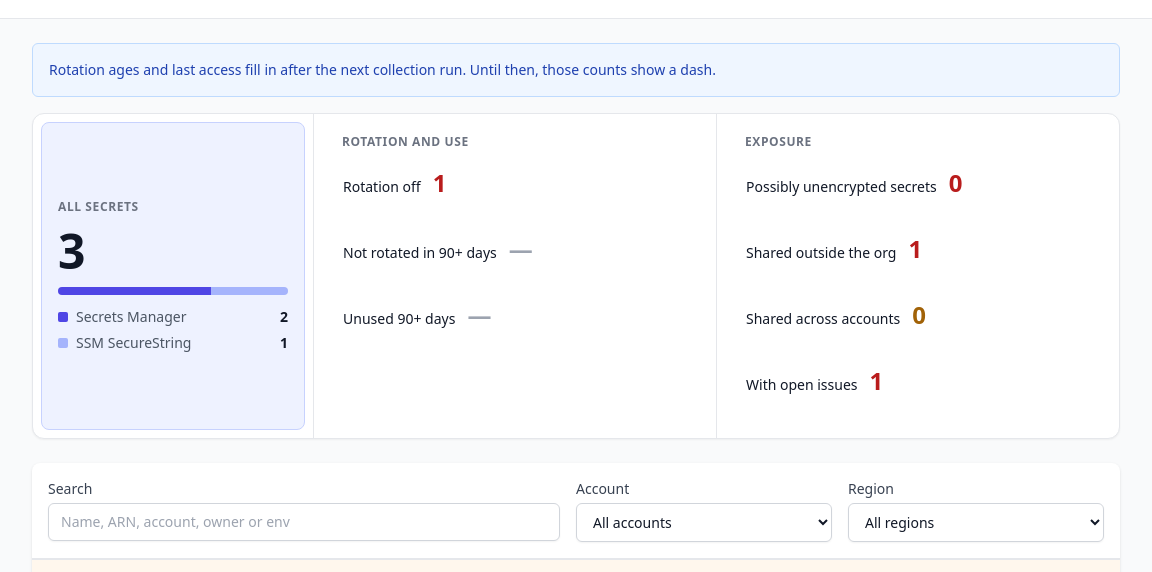
SecretsPage › summarises by type and filters from a risk row, clearing on a second click
Expected: the button "All secrets 3 Secrets Manager 2 SSM SecureString 1" is shown, [41,122,305,430]
Click the button "Rotation off 1".
click(382, 186)  # box [330,160,700,224]
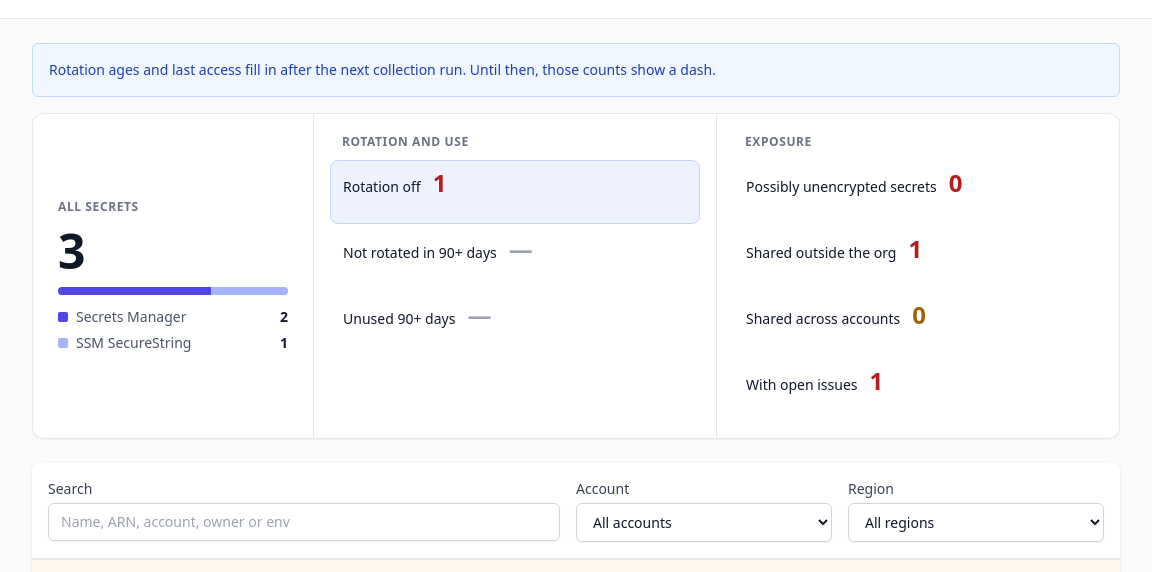
Click the button "Rotation off 1".
click(382, 186)  # box [330,160,700,224]
(page scrolled)
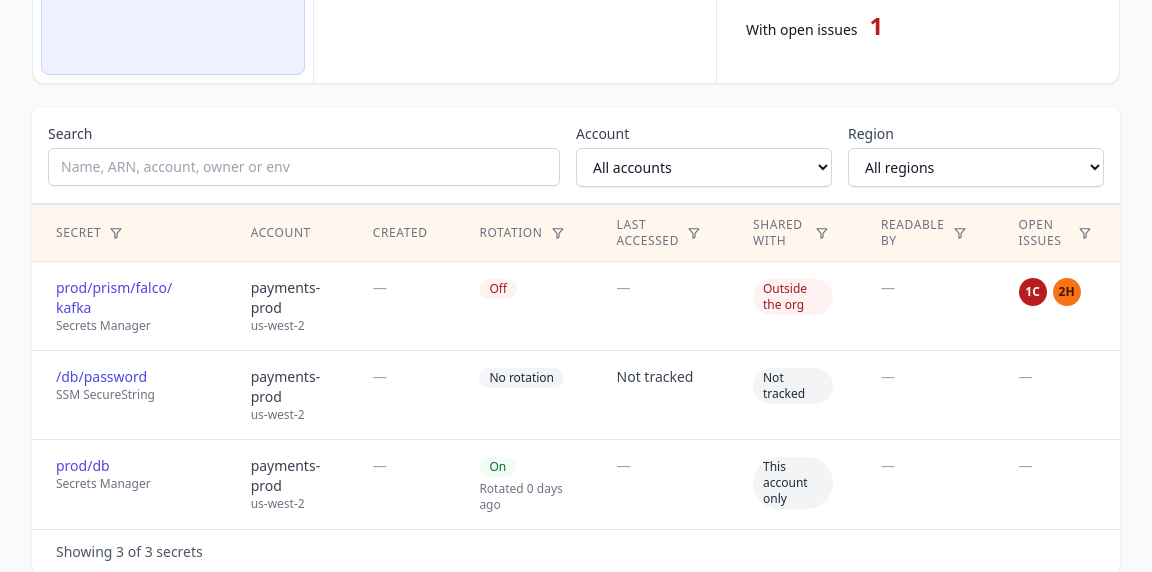
Expected: the text "Showing 3 of 3 secrets" is shown, [56,542,203,562]
